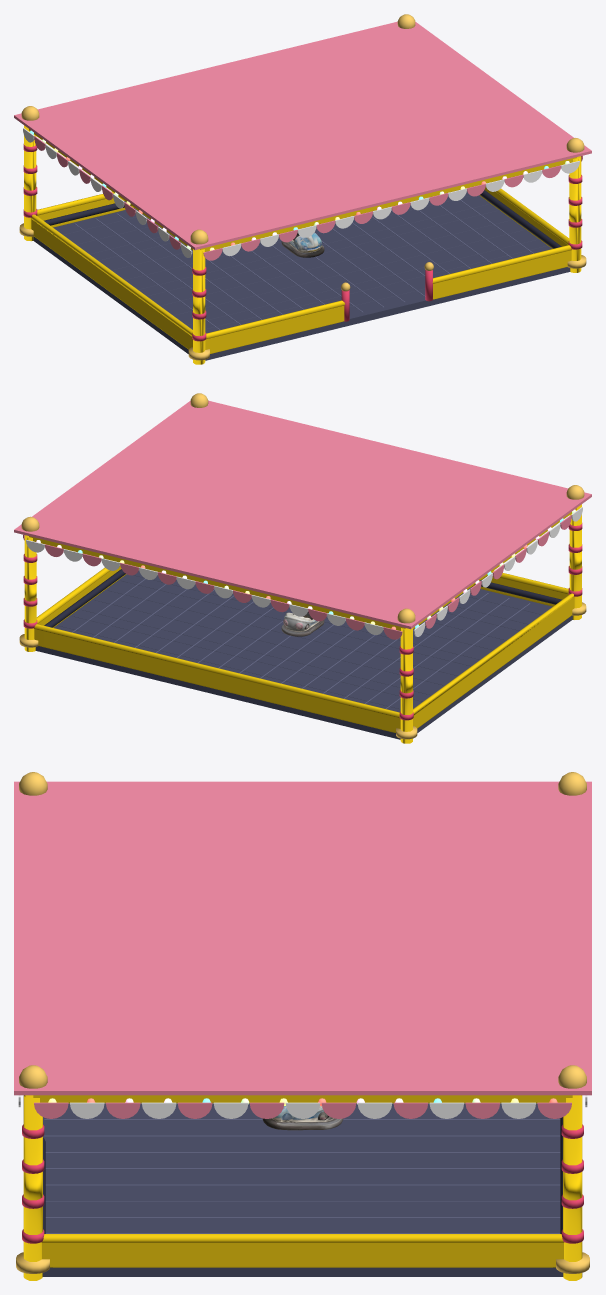
Rendered from crazy_bump.glb.
3 renders of one model, top to bottom at view 1: azimuth 30°, elevation 25°; view 2: azimuth 150°, elevation 25°; view 3: azimuth 270°, elevation 25°, orthographic. The views are drawn at different scales.
Visible parts, largest first — view 1: arena_glass_ff8fab, arena_toon_4a4e69, arena_toon_ffd60a, arena_toon_6c7093, arena_toon_ffffff, arena_toon_ff8fab, arena_toon_ffd166, arena_toon_ef476f, arena_toon_2b2d42, crazy_bump_car; view 2: arena_glass_ff8fab, arena_toon_4a4e69, arena_toon_ffd60a, arena_toon_6c7093, arena_toon_ffffff, arena_toon_ff8fab, arena_toon_ffd166, arena_toon_2b2d42, arena_toon_ef476f, crazy_bump_car; view 3: arena_glass_ff8fab, arena_toon_4a4e69, arena_toon_ffd60a, arena_toon_6c7093, arena_toon_ff8fab, arena_toon_ffffff, arena_toon_ffd166, arena_toon_ef476f, crazy_bump_car.
Part boxes in pixels (x1,y1,x2,y2): arena_glass_ff8fab: [14, 21, 591, 250]; arena_toon_4a4e69: [33, 191, 570, 360]; arena_toon_ffd60a: [24, 125, 581, 364]; arena_toon_6c7093: [63, 195, 545, 329]; arena_toon_ffffff: [23, 128, 579, 257]; arena_toon_ff8fab: [34, 136, 582, 260]; arena_toon_ffd166: [19, 14, 586, 360]; arena_toon_ef476f: [23, 144, 582, 341]; arena_toon_2b2d42: [44, 190, 561, 248]; crazy_bump_car: [281, 232, 324, 257]; arena_glass_ff8fab: [14, 400, 591, 629]; arena_toon_4a4e69: [35, 570, 572, 739]; arena_toon_ffd60a: [24, 504, 581, 743]; arena_toon_6c7093: [59, 575, 541, 708]; arena_toon_ffffff: [26, 507, 582, 636]; arena_toon_ff8fab: [23, 515, 571, 639]; arena_toon_ffd166: [19, 393, 586, 739]; arena_toon_2b2d42: [44, 569, 561, 627]; arena_toon_ef476f: [23, 523, 582, 720]; crazy_bump_car: [281, 612, 324, 636]; arena_glass_ff8fab: [14, 781, 591, 1095]; arena_toon_4a4e69: [42, 1104, 563, 1276]; arena_toon_ffd60a: [23, 1095, 582, 1280]; arena_toon_6c7093: [44, 1103, 560, 1233]; arena_toon_ff8fab: [34, 1102, 571, 1118]; arena_toon_ffffff: [18, 1095, 587, 1118]; arena_toon_ffd166: [16, 772, 589, 1273]; arena_toon_ef476f: [22, 1124, 583, 1243]; crazy_bump_car: [262, 1106, 343, 1130].
Bounding box in the file's own units: 19 × 6.03 × 15.
Materials: 17 (1 with a texture image).
